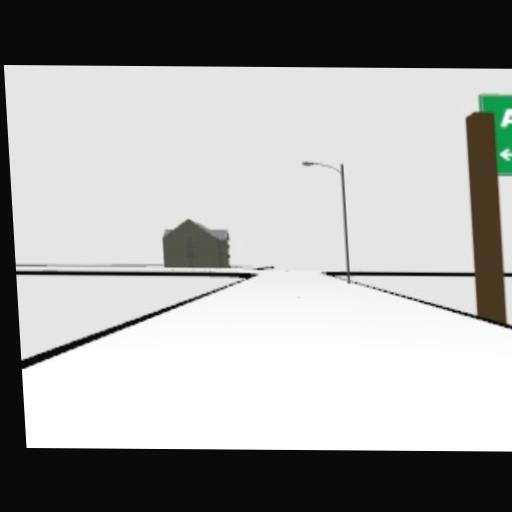A: (498, 106, 512, 126)
Left: (497, 147, 512, 160)
